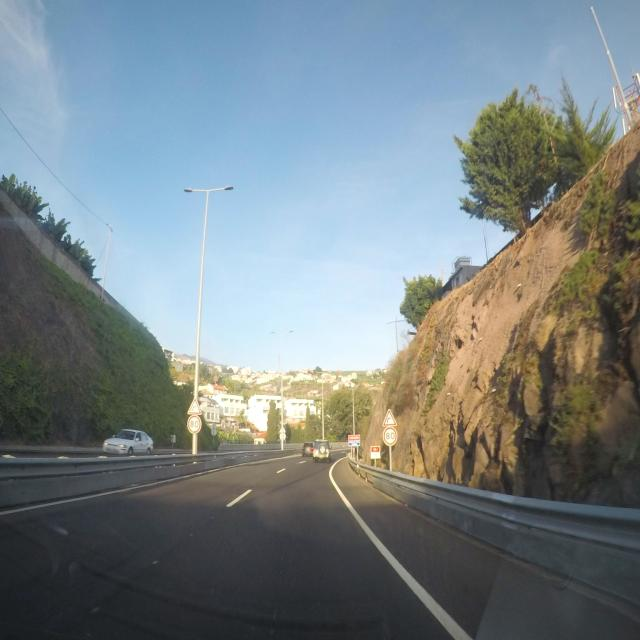car: (102, 428, 154, 457), (313, 440, 332, 462), (302, 441, 314, 457)
